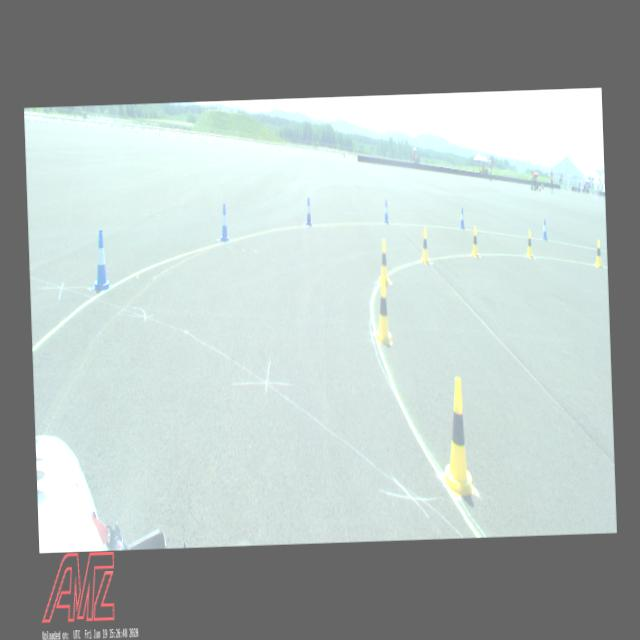blue_cone: (90, 229, 112, 290), (217, 203, 230, 242), (302, 197, 313, 226), (382, 199, 389, 223), (458, 207, 464, 229), (541, 218, 547, 239)
yellow_cone: (438, 376, 476, 497), (374, 276, 392, 344), (377, 239, 389, 284), (418, 228, 430, 264), (469, 226, 479, 257), (524, 229, 534, 258), (593, 240, 602, 266)
